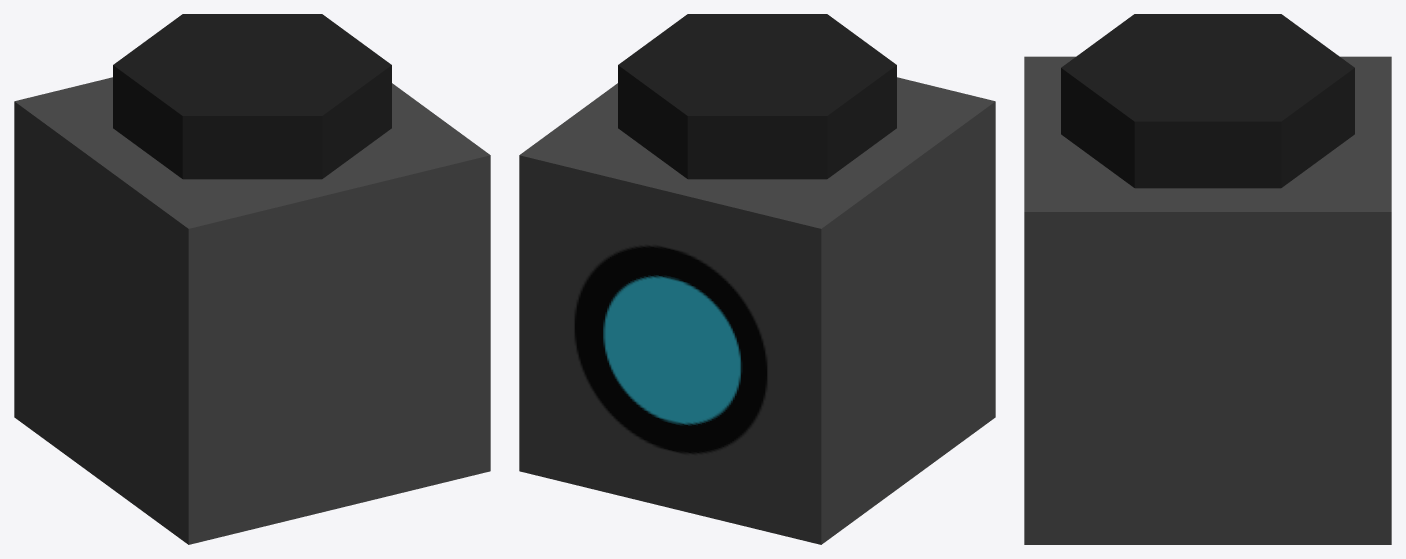
Rendered from P_Hand_L.gltf.
The picture shows the model from 3 angles, left to right: view 1: azimuth 30°, elevation 25°; view 2: azimuth 150°, elevation 25°; view 3: azimuth 270°, elevation 25°; orthographic projection. The views are drawn at different scales.
Parts seen in each view (by area): view 1: P_Hand_L; view 2: P_Hand_L; view 3: P_Hand_L.
Boxes of the visible parts, bbox=[...] form: P_Hand_L: bbox=[14, 14, 490, 544]; P_Hand_L: bbox=[519, 14, 995, 544]; P_Hand_L: bbox=[1024, 14, 1391, 544].
Size of the model in its own units: 0.2644 by 0.3172 by 0.2644.
1 material, 1 textured.
